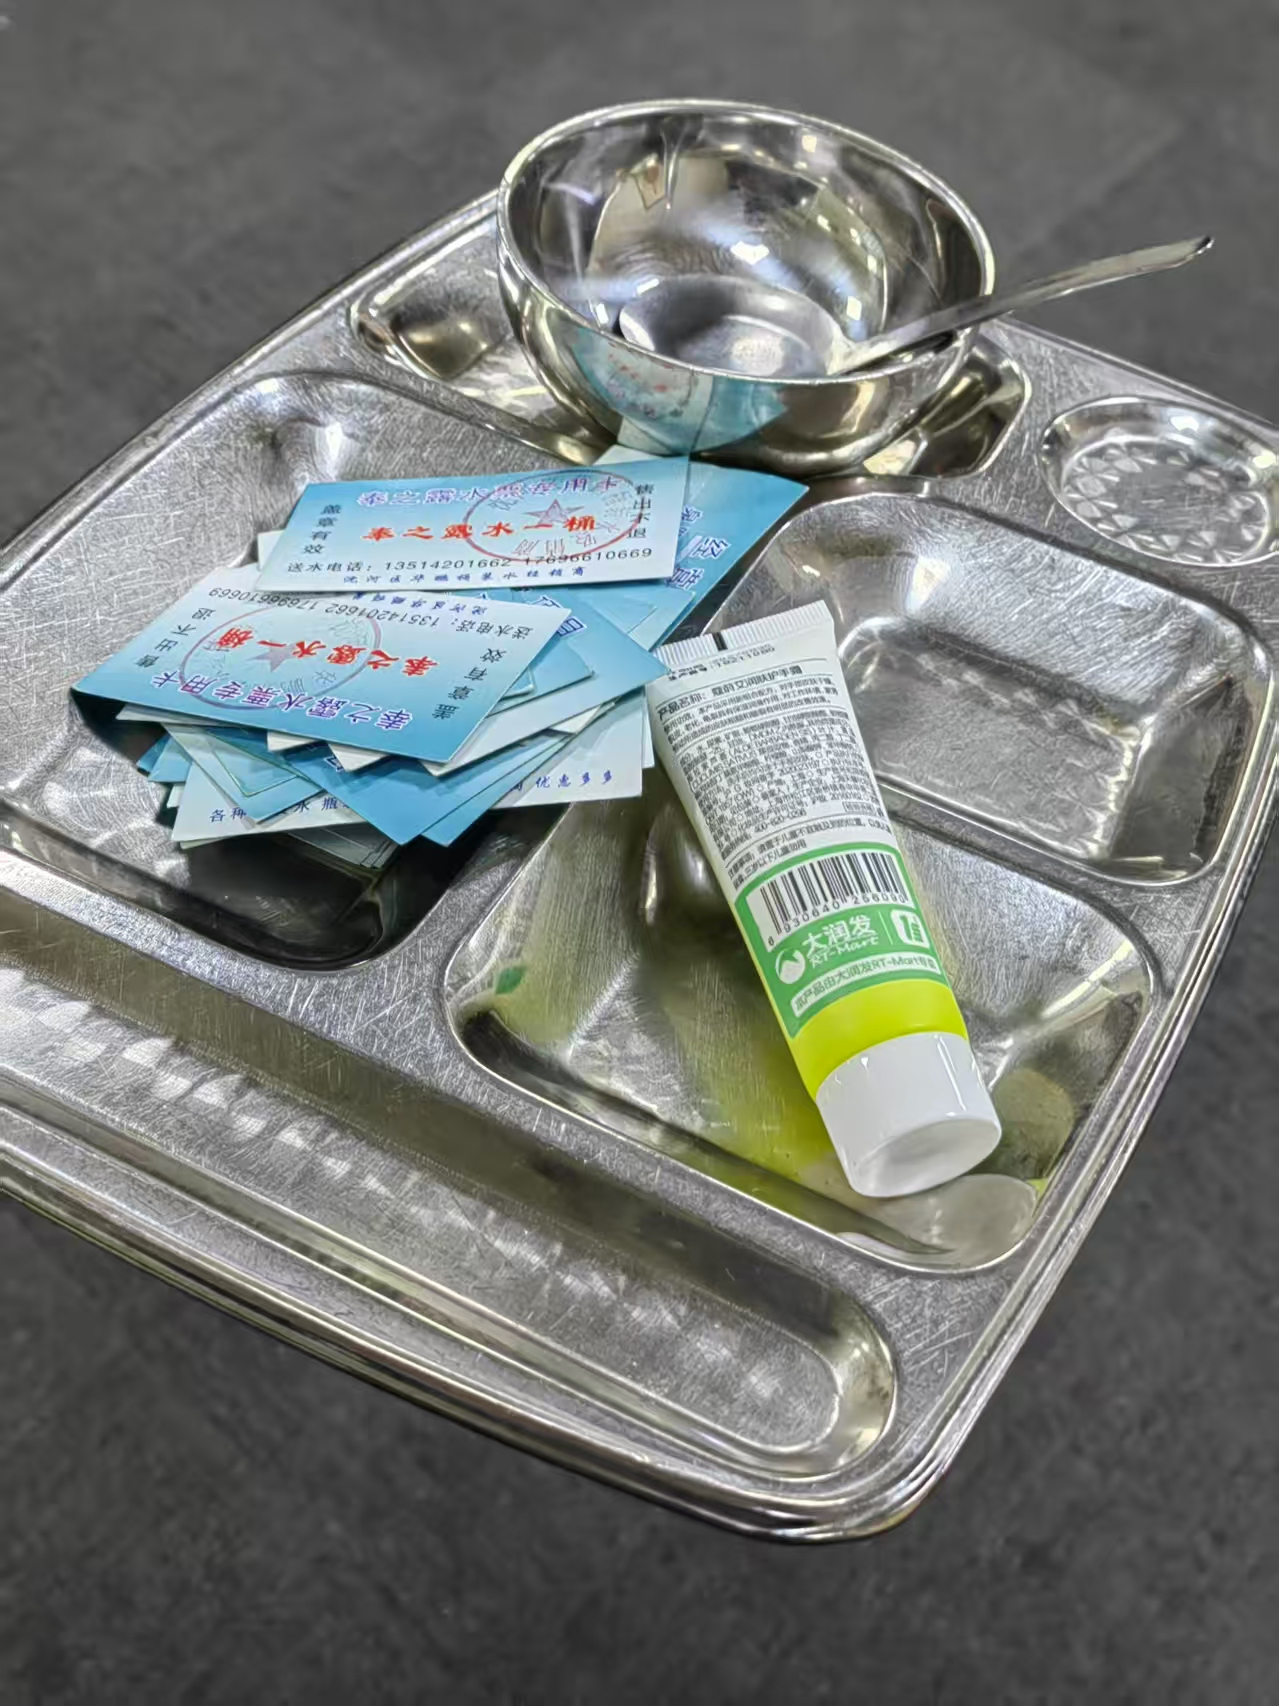moderate: (75, 459, 1005, 1206)
plate: (3, 164, 1279, 1549)
